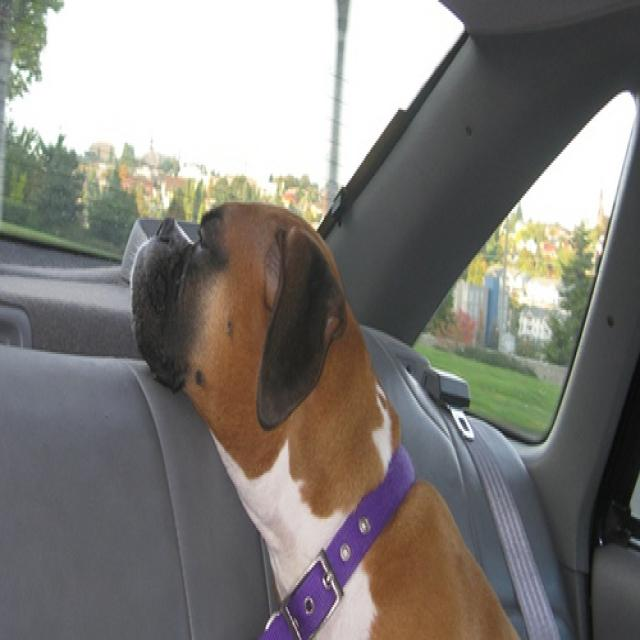dog-boxer: (127, 196, 524, 636)
